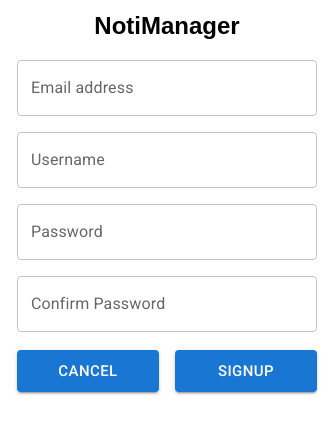
Test: SignUp › should handle signup failure: email already exists
The image size is (335, 446).
Type "test@test.com" into the field with test id "email-input" at (167, 88), box [17, 60, 317, 116]
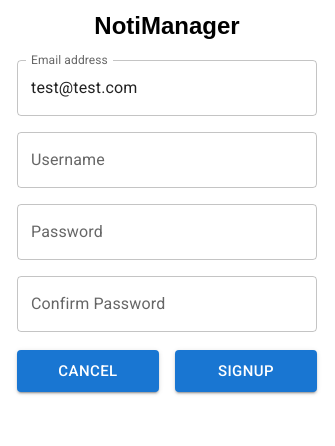
Type "username" into the field with test id "username-input" at (167, 160), box [17, 132, 317, 188]
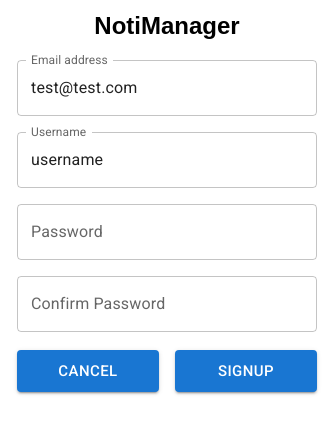
Type "password" into the password field with test id "password-input" at (167, 232), box [17, 204, 317, 260]
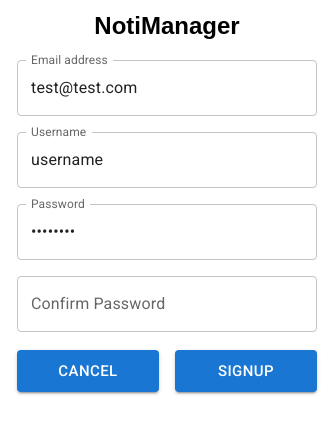
Type "password" into the password field with test id "password-confirm" at (167, 304), box [17, 276, 317, 332]
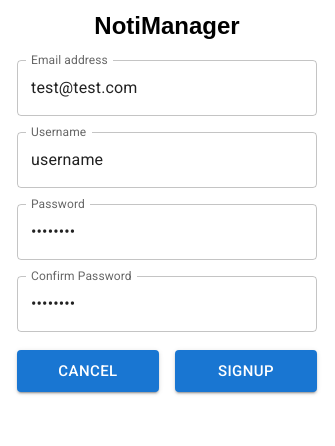
Click the button with test id "signup-button" at (246, 371), box [175, 350, 317, 392]
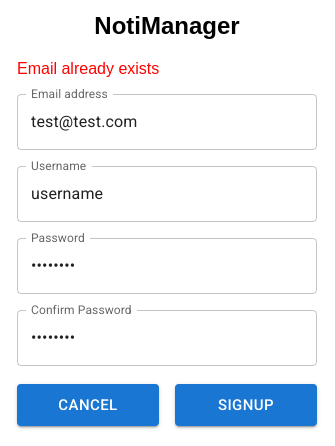
Expected: the text "Email already exists" is shown, [17, 60, 159, 77]
